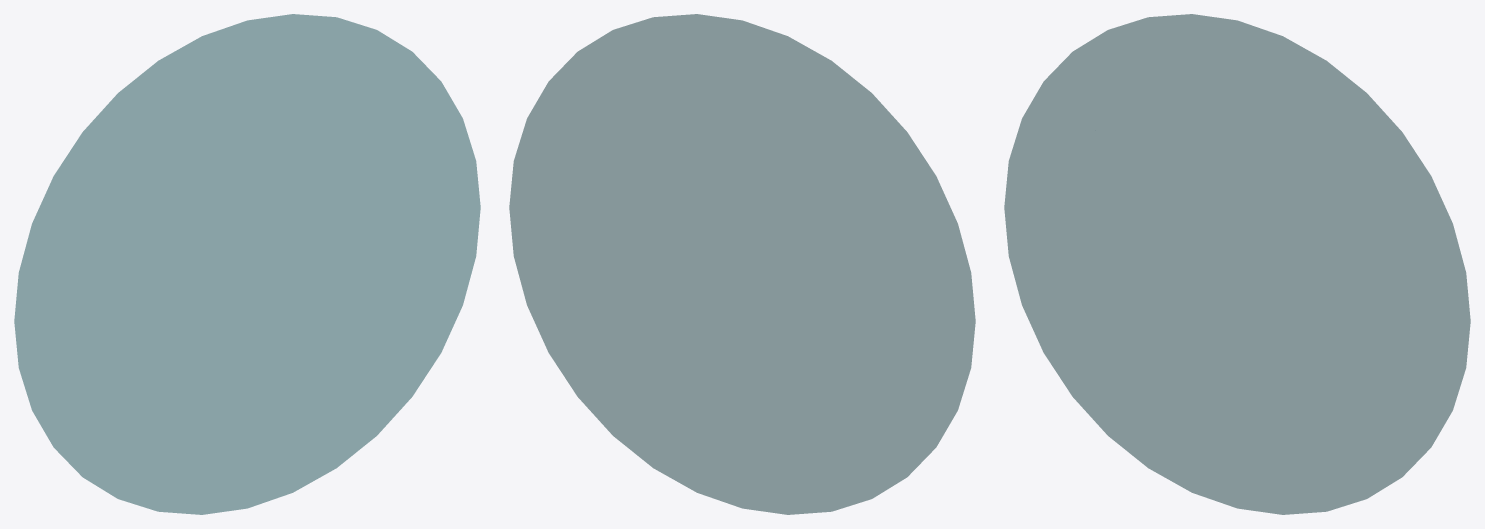
The model's file is Water Pane Feature Pool.fbx.
3 renders of one model, left to right at view 1: azimuth 30°, elevation 25°; view 2: azimuth 150°, elevation 25°; view 3: azimuth 330°, elevation 25°, orthographic.
Parts seen in each view (by area): view 1: Feature Pool Water; view 2: Feature Pool Water; view 3: Feature Pool Water.
Part boxes in pixels (box(x1,y1,x2,y2)): Feature Pool Water: box(14, 14, 480, 514); Feature Pool Water: box(509, 14, 975, 514); Feature Pool Water: box(1004, 14, 1470, 514).
Bounding box in the file's own units: 331 × 331 × 4.41e-05.
